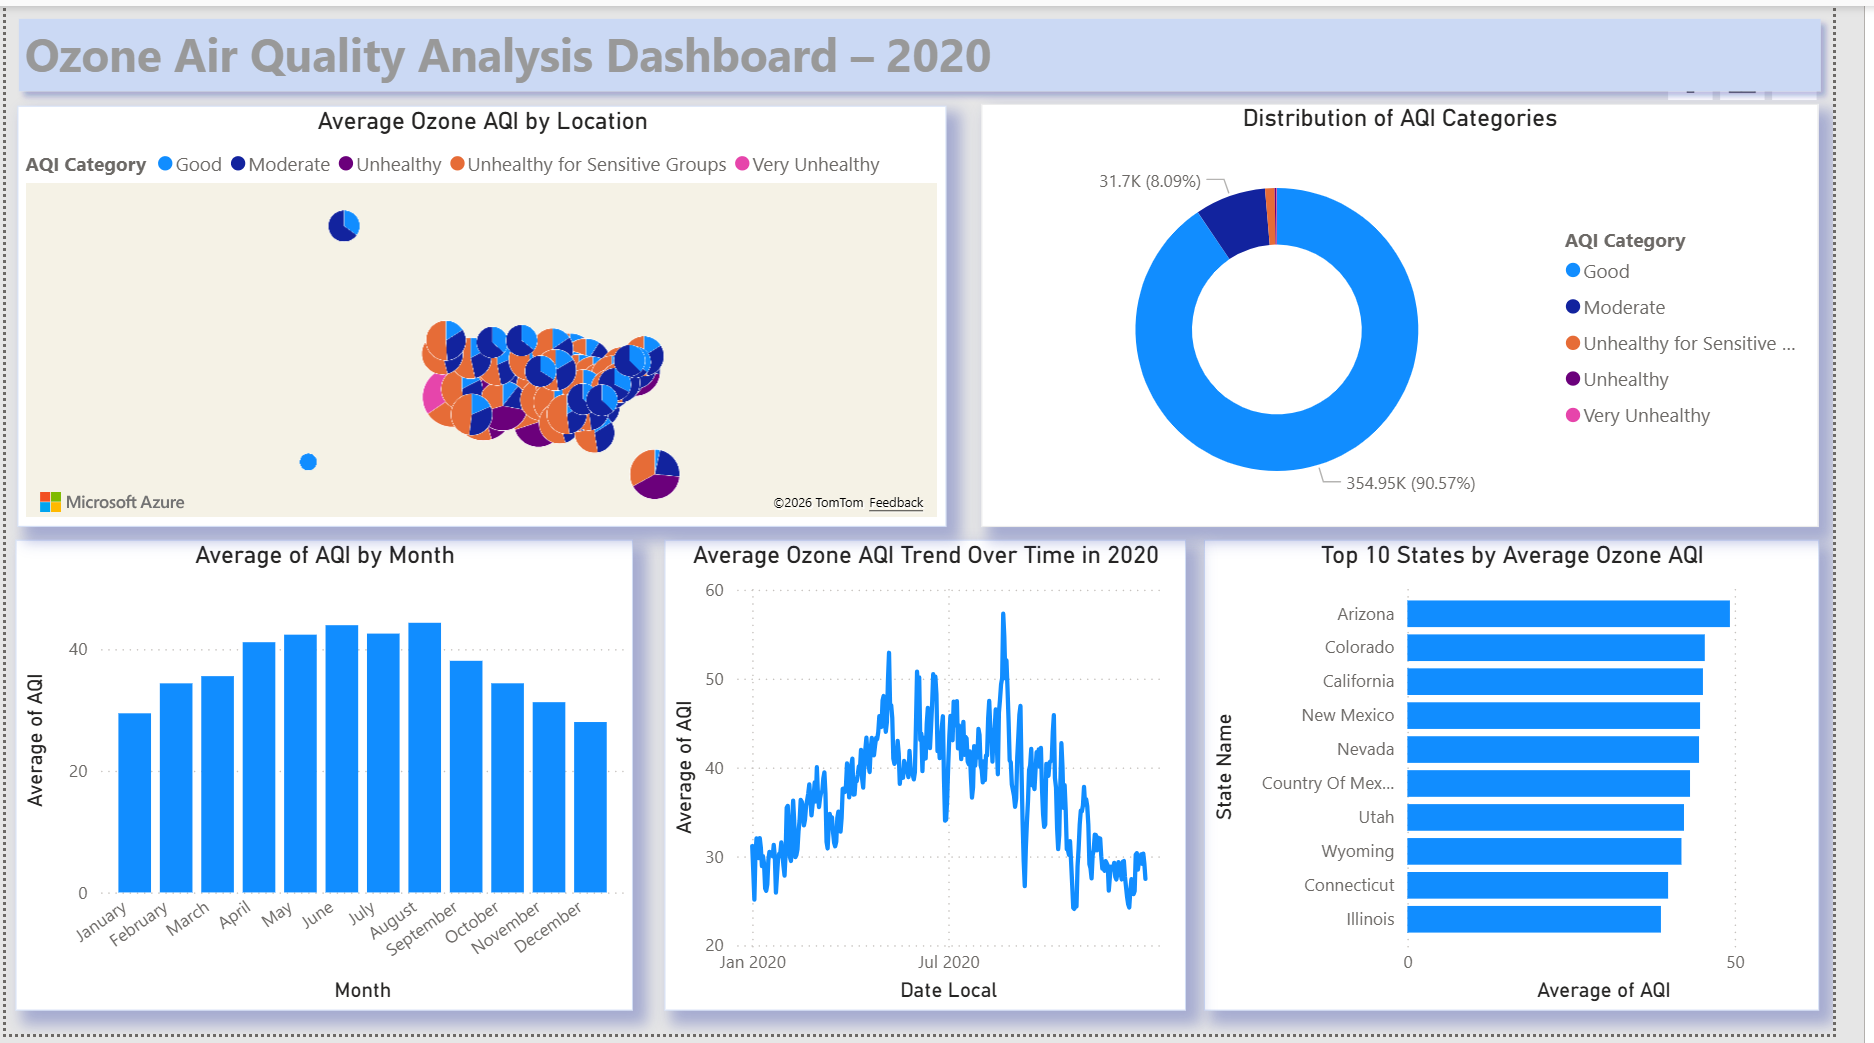

This screenshot's page, from the dashboard's own definition file:
{"tool":"powerbi","page":{"name":"Page 1","canvas":[1280,720],"ordinal":0},"visuals":[{"type":"clusteredBarChart","title":"Top 10 States by Average Ozone AQI","fields":{"Category":["daily_ozone_2020_.State Name"],"Y":["Avg(daily_ozone_2020_.AQI)"]},"box":[838.6,374.2,430.8,329.9],"z":0},{"type":"lineChart","title":"Average Ozone AQI Trend Over Time in 2020","fields":{"Y":["Avg(daily_ozone_2020_.AQI)"],"Category":["daily_ozone_2020_.Date Local"]},"box":[461.3,374.2,365.1,329.9],"z":1},{"type":"clusteredColumnChart","fields":{"Category":["daily_ozone_2020_.Month"],"Y":["Avg(daily_ozone_2020_.AQI)"]},"box":[6.1,374.2,432.3,329.9],"z":2},{"type":"donutChart","title":"Distribution of AQI Categories","fields":{"Category":["daily_ozone_2020_.AQI Category"],"Y":["CountNonNull(daily_ozone_2020_.AQI Category)"]},"box":[682.8,68.7,586.6,296.3],"z":3},{"type":"azureMap","title":"Average Ozone AQI by Location","fields":{"Category":["daily_ozone_2020_.State Name"],"Size":["Avg(daily_ozone_2020_.AQI)"],"X":["Avg(daily_ozone_2020_.Longitude)"],"Y":["Avg(daily_ozone_2020_.Latitude)"],"Series":["daily_ozone_2020_.AQI Category"]},"box":[7.6,70.3,650.7,294.8],"z":4},{"type":"shape","box":[0,0,1280,68.7],"z":5},{"type":"textbox","box":[7.6,6.1,1261.7,53.5],"z":6}]}

Visuals, with their boxes in screenshot pixels (x1, y1, x2, y2), scaled from the page's 1280x720 canvas onto the 1874x1043 screenshot:
"Top 10 States by Average Ozone AQI" clusteredBarChart: {"left": 1228, "top": 542, "right": 1858, "bottom": 1020}
"Average Ozone AQI Trend Over Time in 2020" lineChart: {"left": 675, "top": 542, "right": 1210, "bottom": 1020}
clusteredColumnChart - daily_ozone_2020_.Month x Avg(daily_ozone_2020_.AQI): {"left": 9, "top": 542, "right": 642, "bottom": 1020}
"Distribution of AQI Categories" donutChart: {"left": 1000, "top": 100, "right": 1858, "bottom": 529}
"Average Ozone AQI by Location" azureMap: {"left": 11, "top": 102, "right": 964, "bottom": 529}
shape: {"left": 0, "top": 0, "right": 1873, "bottom": 100}
textbox: {"left": 11, "top": 9, "right": 1858, "bottom": 86}
